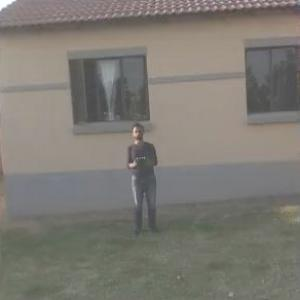follow: (125, 118, 164, 244)
